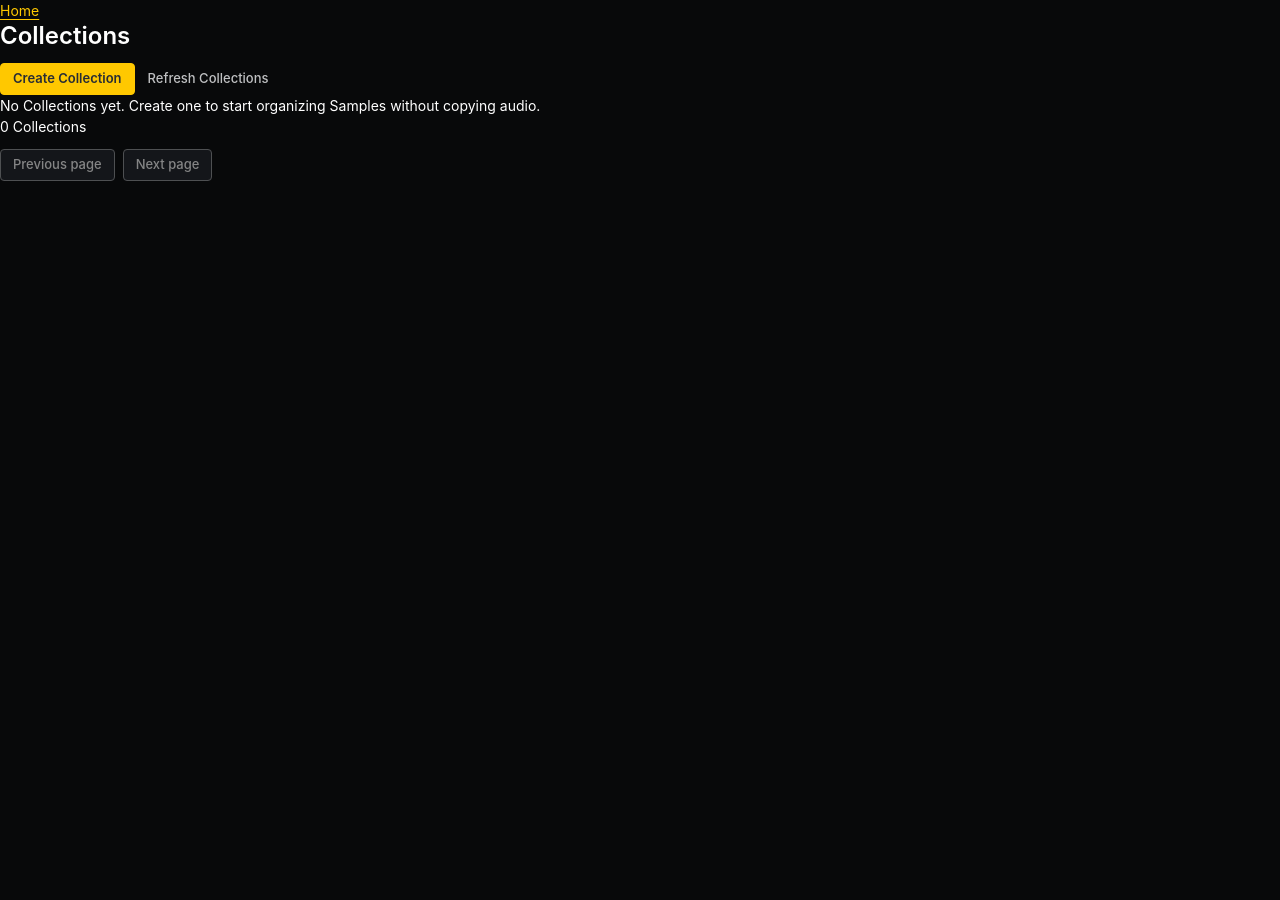
Scenario: Collection creation validates, preserves failed drafts, prevents duplicate submissions and opens detail only after success
Expected: the text "No Collections yet" is shown, [0,97,540,114]
Click the button "Create Collection" at (67, 79), box [0,63,135,95]
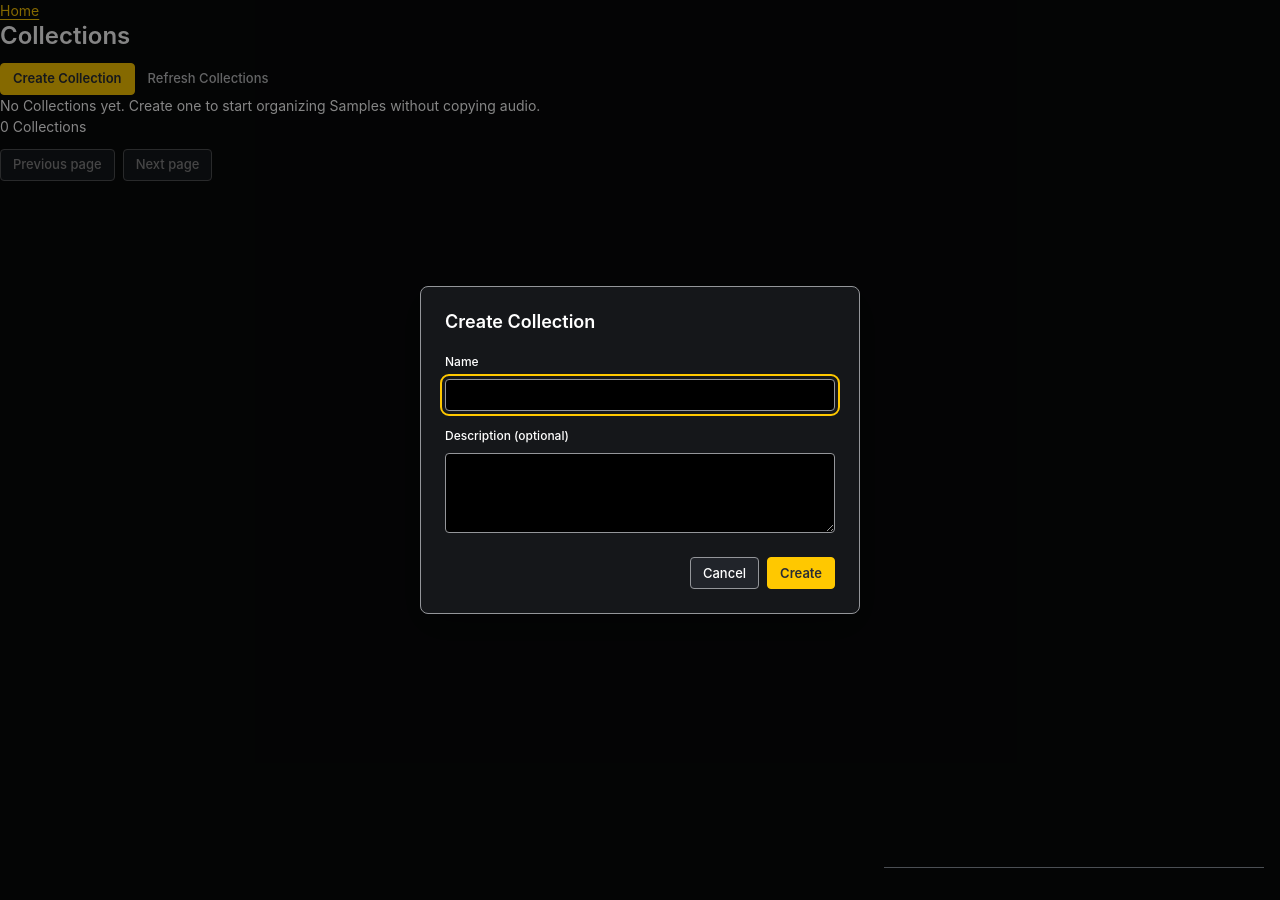
Click the button "Create" at (801, 573), box [767,557,835,589]
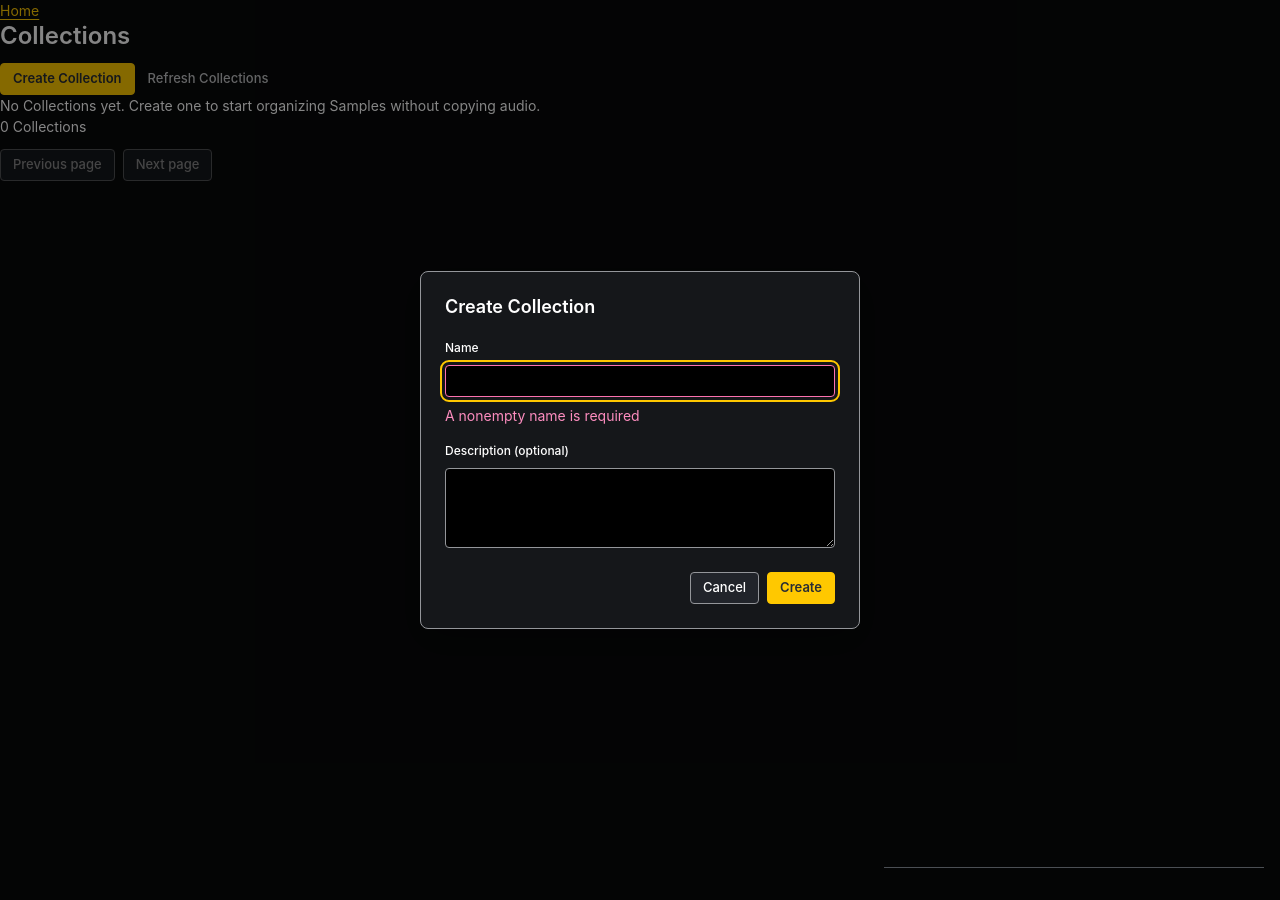
Result: the message "A nonempty name is required" is shown at [445,407,640,424]
Type "Session Picks" into the field labelled "Name" at (640, 381), box [445,365,835,397]
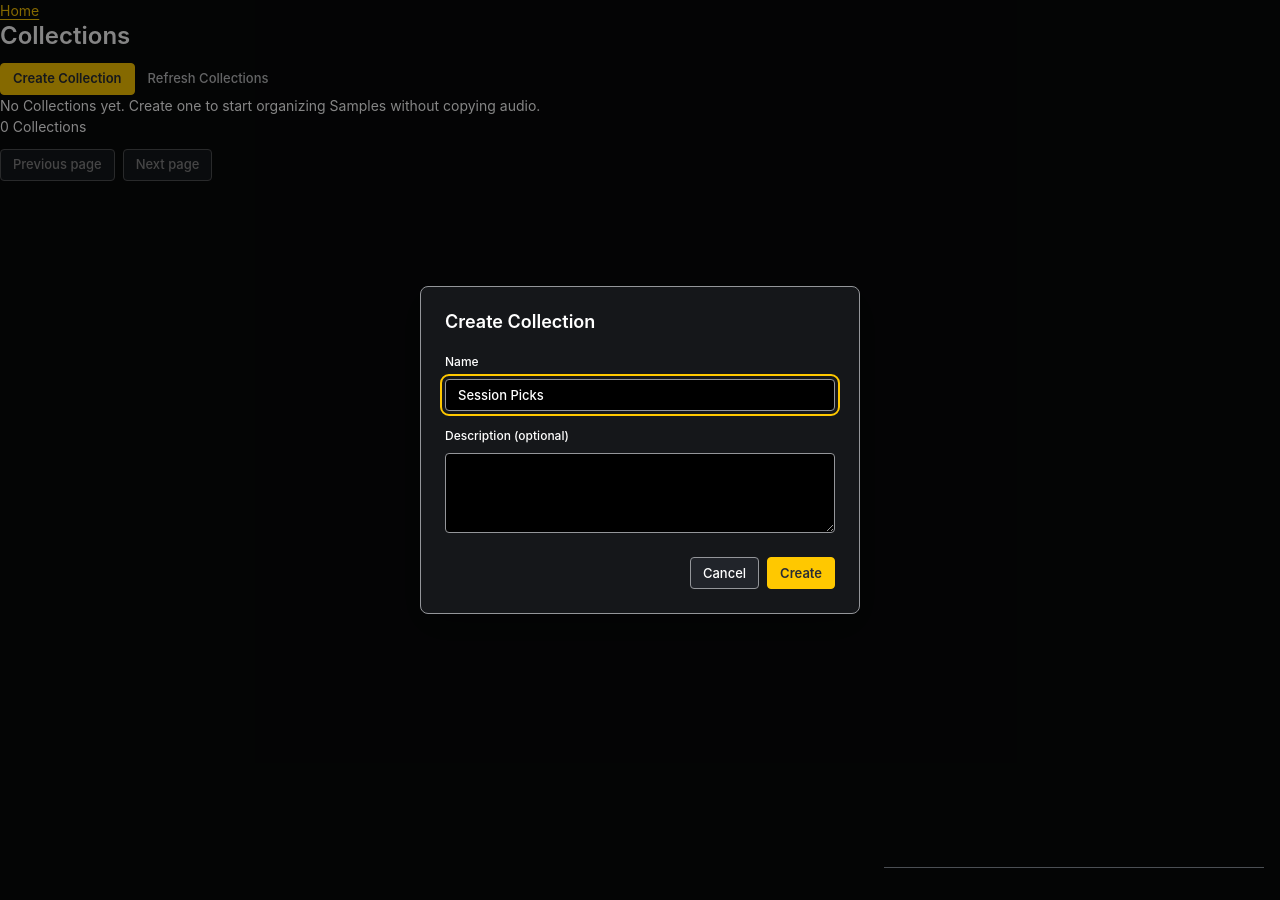
Type "Quiet textures" into the text box labelled "Description (optional)" at (640, 493), box [445,453,835,533]
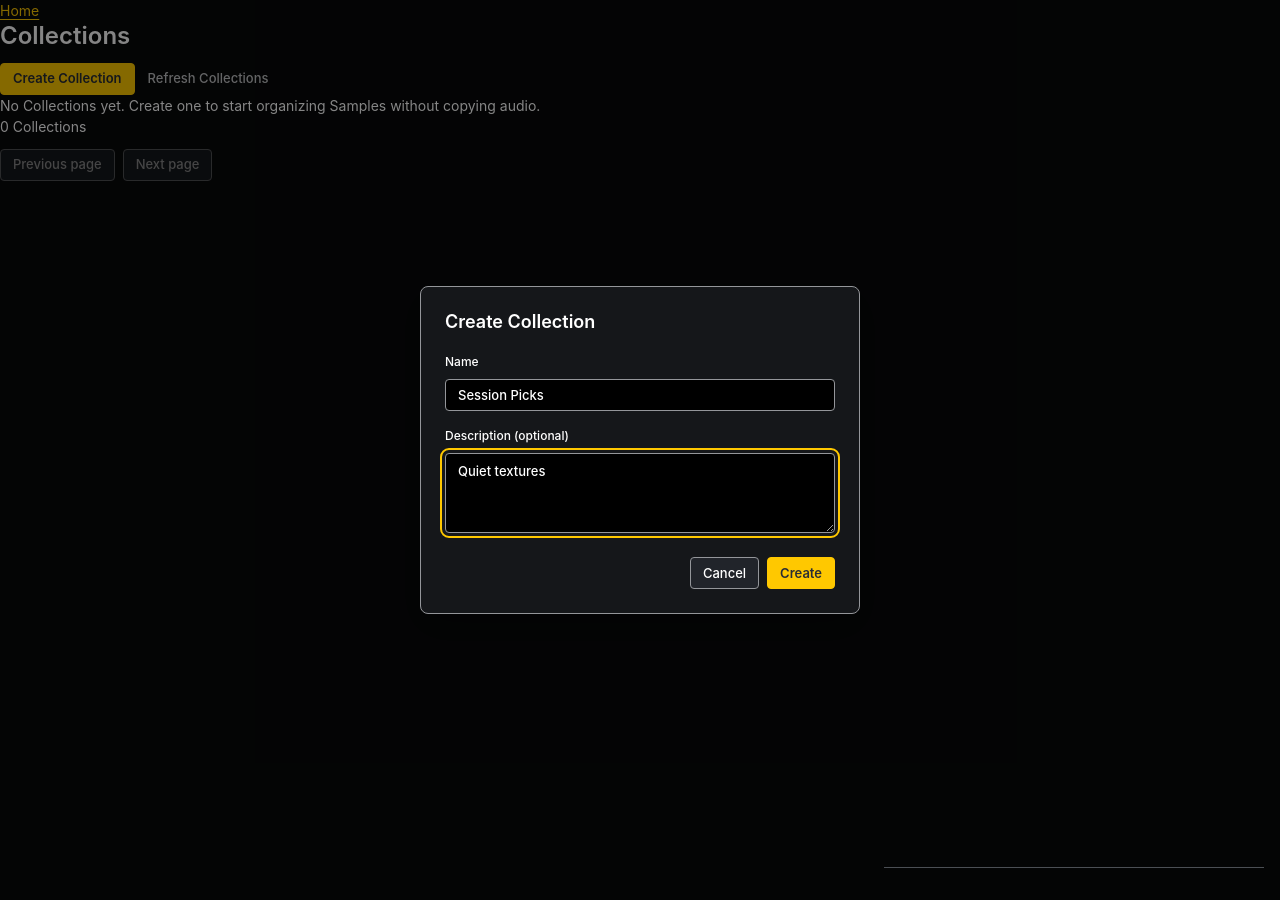
Click the button "Create" at (801, 573), box [767,557,835,589]
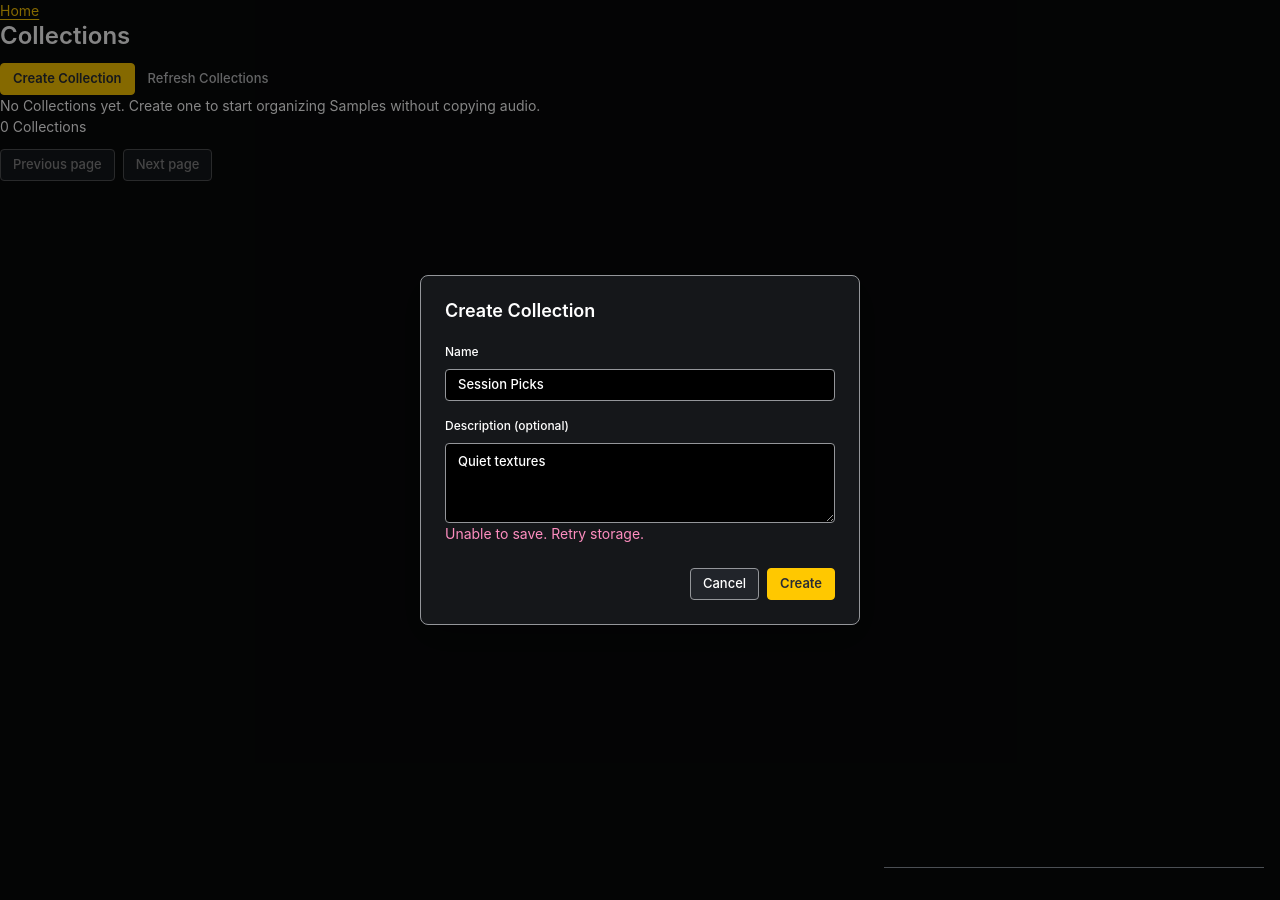
Result: the message "Unable to save. Retry storage." is shown at [445,525,644,542]
Click the button "Create" at (801, 584), box [767,568,835,600]
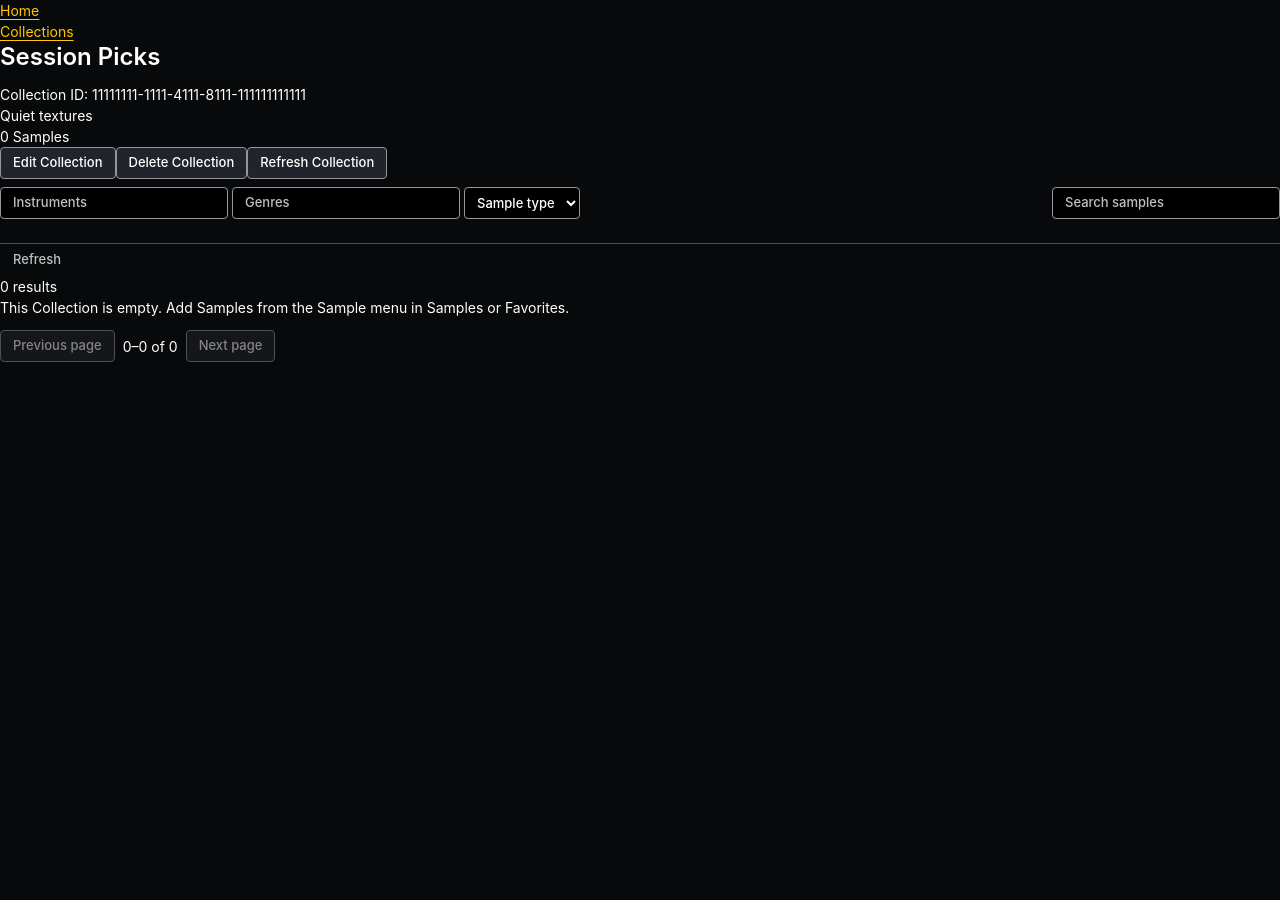
Result: the heading "Session Picks" is shown at [0,42,160,71]
Result: the dialog is gone
Result: the text "This Collection is empty" is shown at [0,299,569,316]
